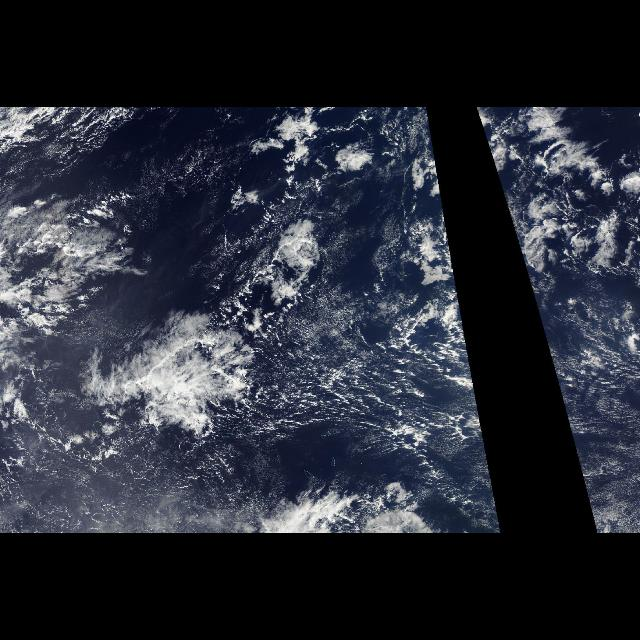Gravel: (248, 294, 372, 450)
Sugar: (3, 442, 278, 532), (562, 399, 640, 533), (430, 399, 502, 533)
